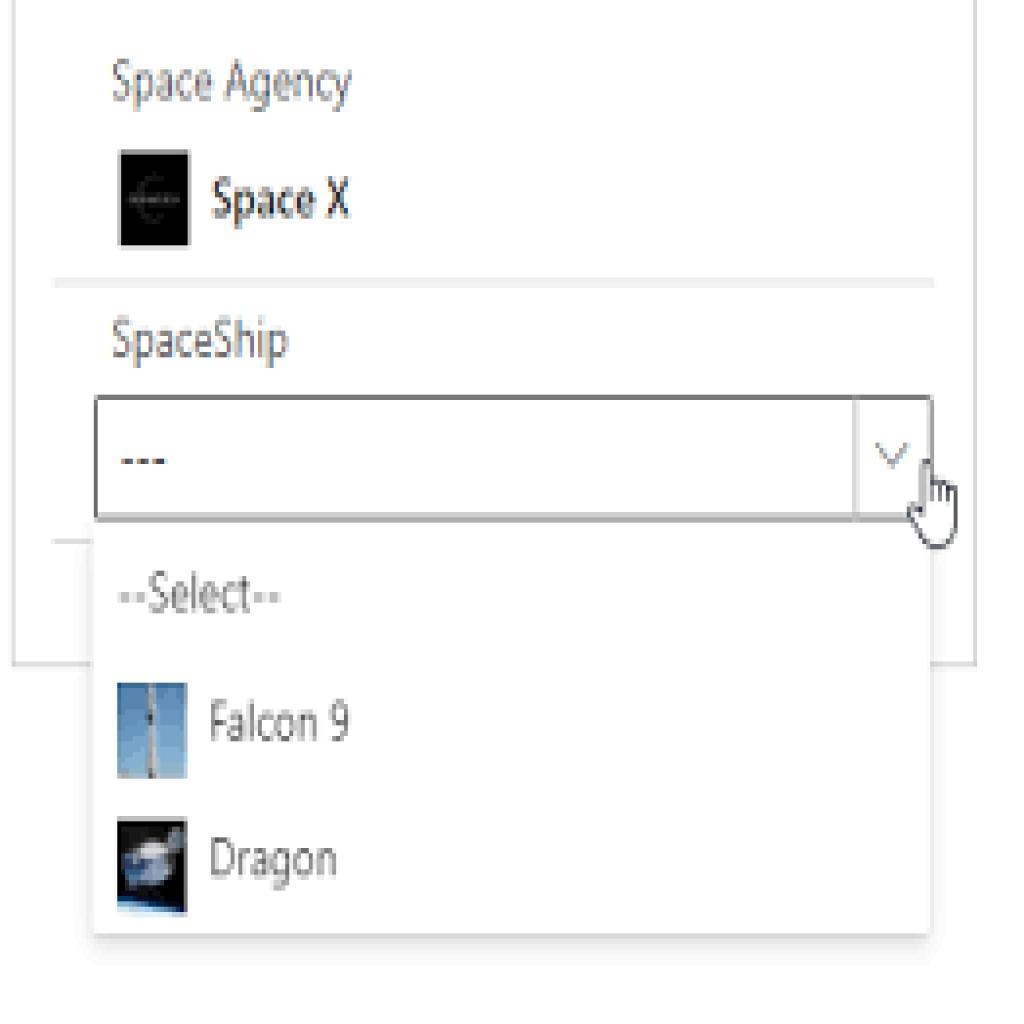dropdown: (94, 395, 932, 522)
